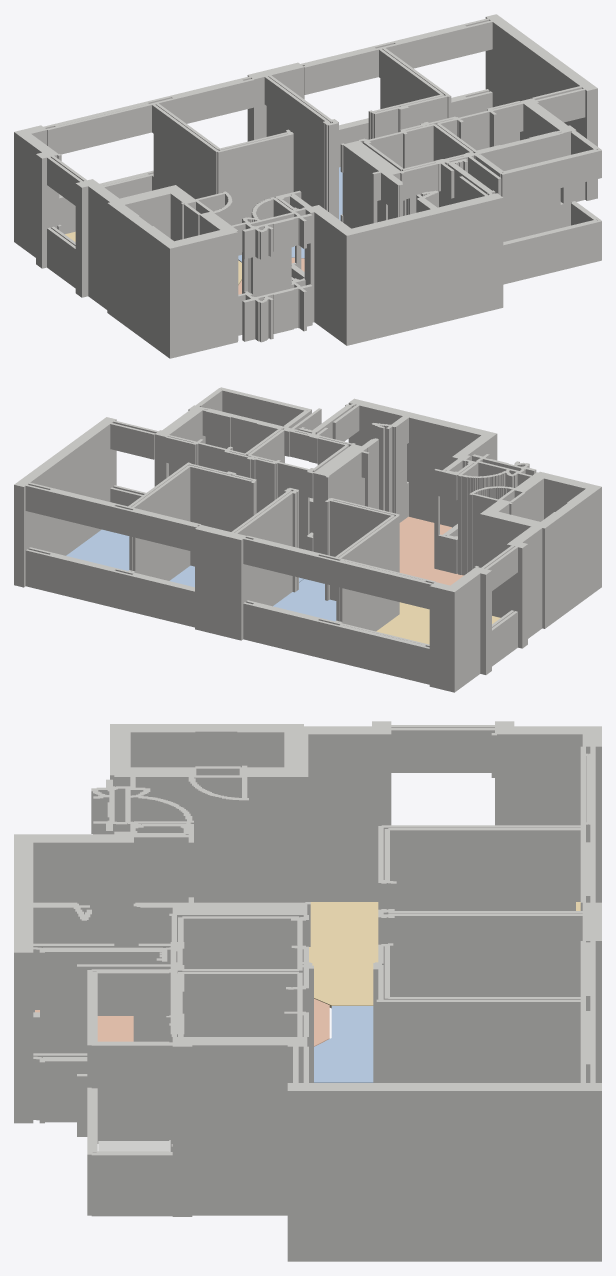
3 views of the same model, one above another, from view 1: azimuth 30°, elevation 25°; view 2: azimuth 150°, elevation 25°; view 3: azimuth 270°, elevation 25° (orthographic). The views are drawn at different scales.
Parts seen in each view (by area): view 1: walls; view 2: walls, room:kitchen:6, room:bedroom:3, room:bedroom:1, room:living:0; view 3: walls, room:living:0, room:bedroom:1, room:kitchen:6, room:ledge:8.
Boxes of the visible parts, x1,y1,x2,y2 form: walls: (14, 14, 601, 358); walls: (14, 387, 601, 692); room:kitchen:6: (399, 516, 463, 585); room:bedroom:3: (66, 529, 129, 570); room:bedroom:1: (273, 579, 336, 621); room:living:0: (376, 602, 500, 644); walls: (14, 721, 601, 1261); room:living:0: (309, 902, 580, 1008); room:bedroom:1: (314, 1006, 373, 1082); room:kitchen:6: (35, 998, 329, 1046); room:ledge:8: (98, 1140, 170, 1151).
Size of the model in its own units: 13.02 by 2.8 by 8.75.
